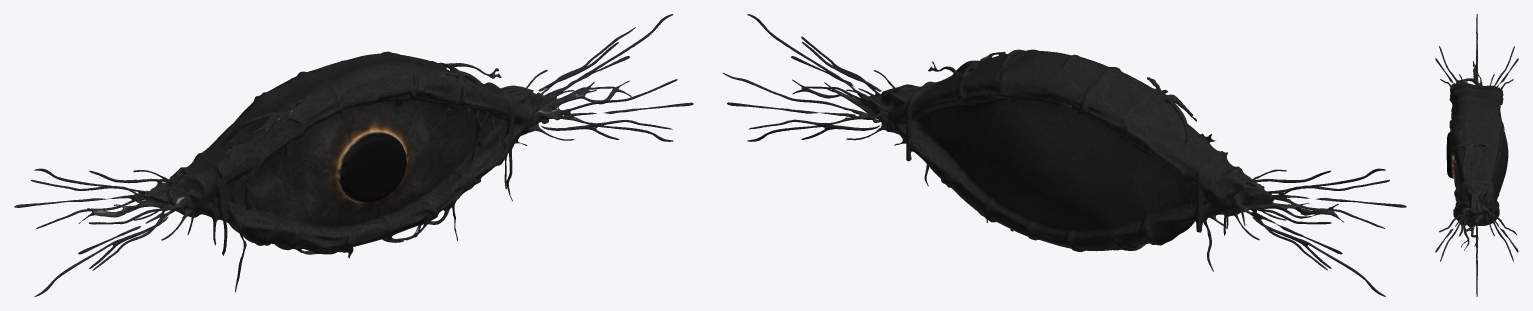
Rendered from Meshy_AI_Eclipse_Wound_1013183324_texture.obj.
3 views of the same model, side by side, from view 1: azimuth 30°, elevation 25°; view 2: azimuth 150°, elevation 25°; view 3: azimuth 270°, elevation 25° (orthographic). The views are drawn at different scales.
Visible parts, largest first — view 1: Meshy_AI_Eclipse_Wound_1013183324_texture; view 2: Meshy_AI_Eclipse_Wound_1013183324_texture; view 3: Meshy_AI_Eclipse_Wound_1013183324_texture.
Boxes of the visible parts, box(x1,y1,x2,y2) form: Meshy_AI_Eclipse_Wound_1013183324_texture: box(14, 14, 693, 296); Meshy_AI_Eclipse_Wound_1013183324_texture: box(722, 14, 1406, 296); Meshy_AI_Eclipse_Wound_1013183324_texture: box(1435, 14, 1518, 296).
Size of the model in its own units: 1.9 by 0.5464 by 0.3325.
Materials: 1 (1 with a texture image).
